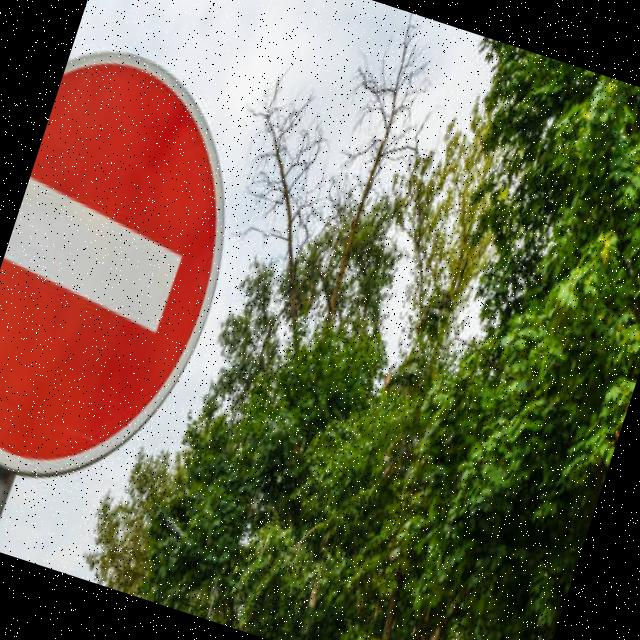do_not_enter: (0, 9, 294, 536)
